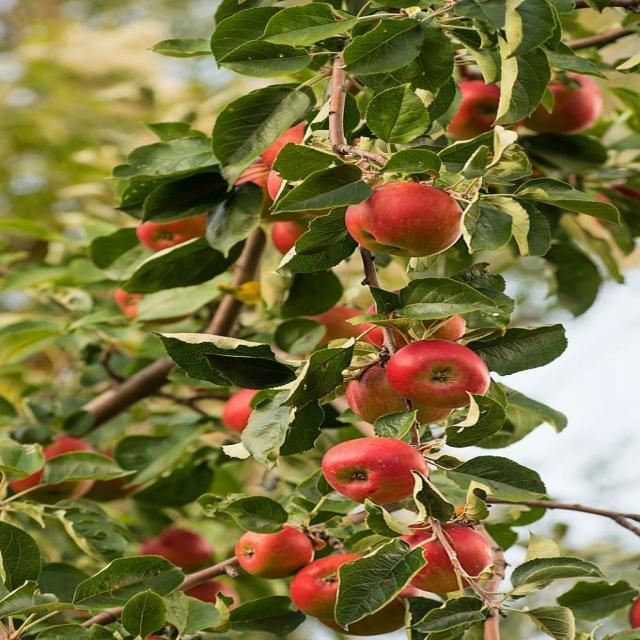Red Apple: (346, 183, 467, 256), (399, 525, 495, 591), (329, 442, 427, 503), (343, 365, 441, 426), (394, 339, 485, 403), (17, 437, 96, 508), (369, 291, 463, 347), (303, 555, 388, 616), (348, 576, 421, 640), (444, 78, 524, 133), (529, 71, 595, 132), (237, 525, 314, 574), (126, 211, 212, 253), (270, 213, 341, 261), (226, 382, 285, 431), (267, 122, 321, 171), (146, 531, 212, 571), (314, 307, 378, 347), (95, 445, 136, 506), (602, 180, 640, 226), (192, 583, 240, 617), (241, 156, 277, 194), (116, 285, 146, 318), (268, 169, 297, 203), (625, 593, 640, 629), (150, 629, 171, 640)
